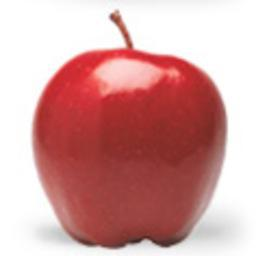apple: (32, 8, 226, 246)
